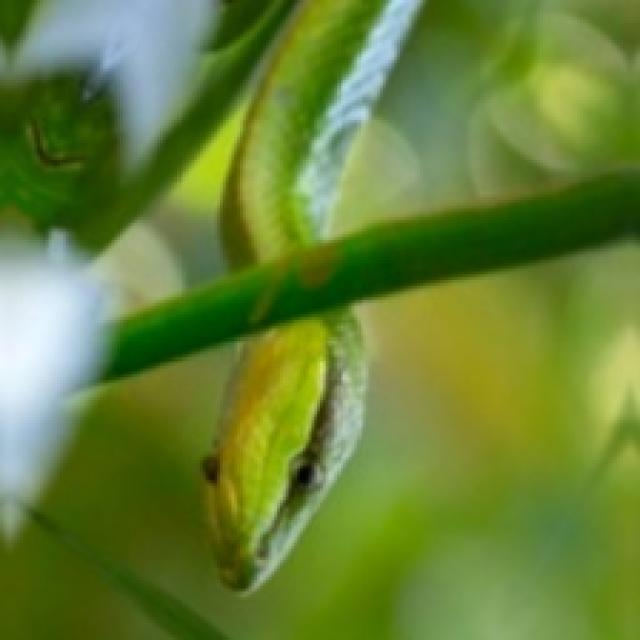red-tailed green ratsnake: (220, 0, 417, 266), (203, 309, 363, 589), (206, 309, 363, 589)
